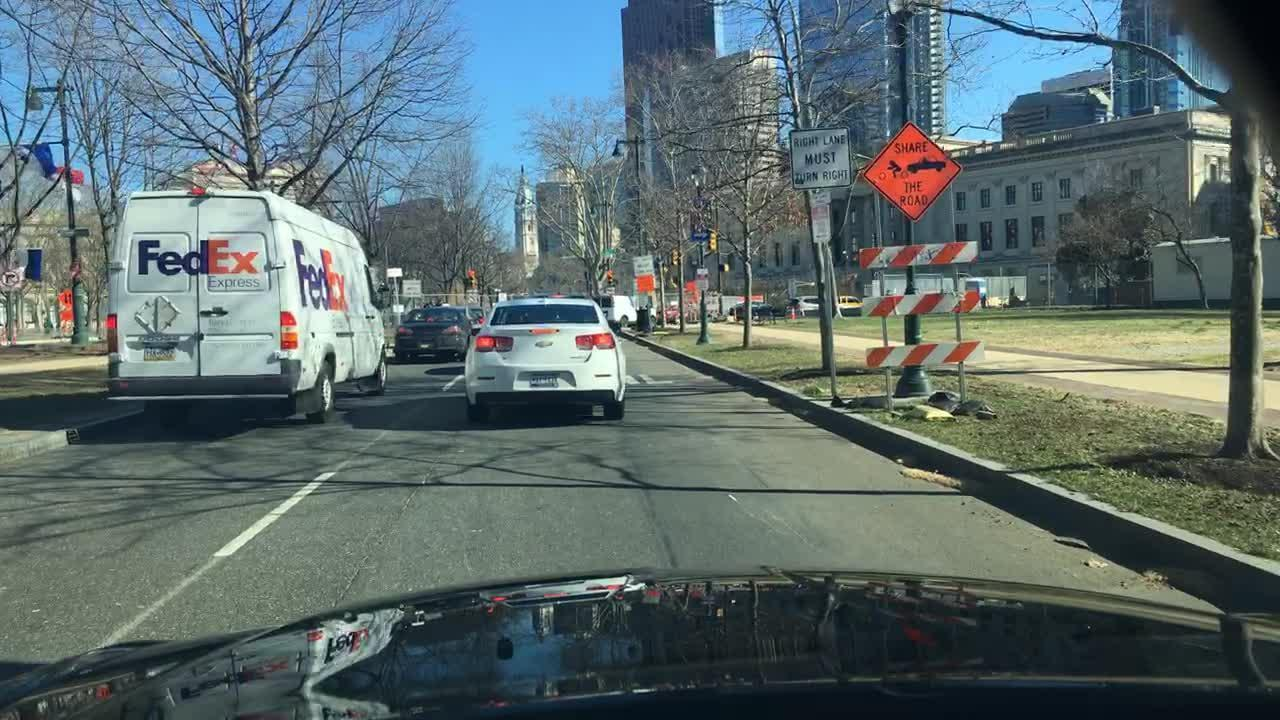chevrolet: (531, 336, 561, 353)
